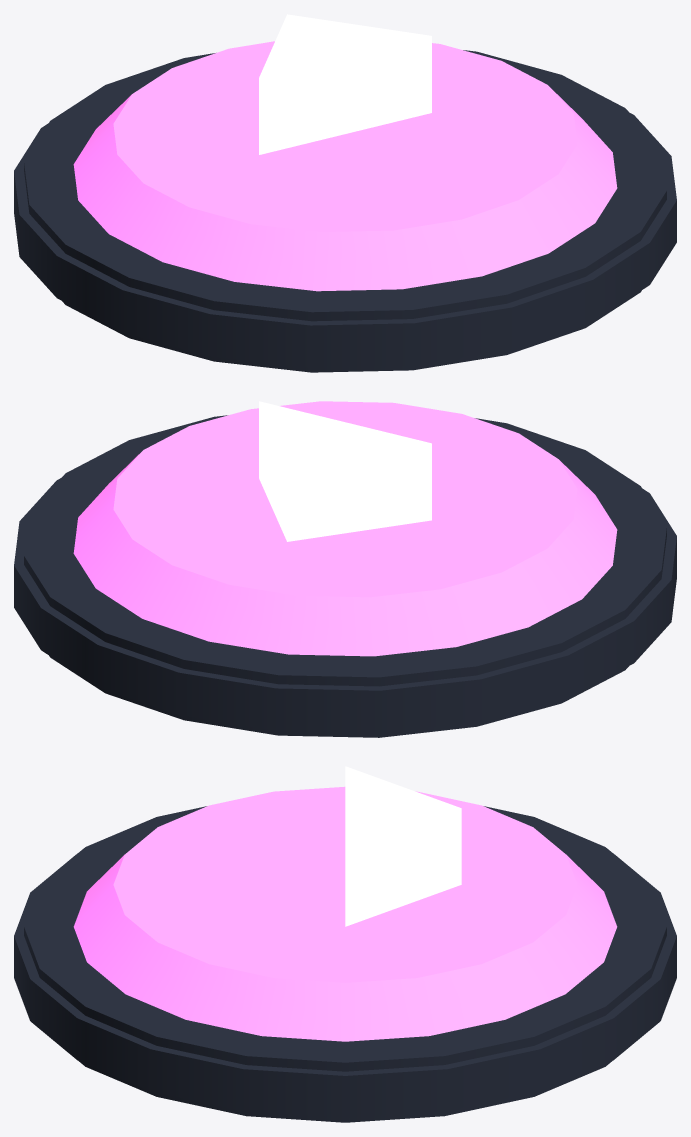
The model's file is bounce_pad.glb.
The picture shows the model from 3 angles, top to bottom: view 1: azimuth 30°, elevation 25°; view 2: azimuth 150°, elevation 25°; view 3: azimuth 270°, elevation 25°; orthographic projection.
Parts seen in each view (by area): view 1: bounce_pad; view 2: bounce_pad; view 3: bounce_pad.
Part boxes in pixels (x1=…): bounce_pad: x1=14, y1=14, x2=676, y2=372; bounce_pad: x1=14, y1=401, x2=676, y2=737; bounce_pad: x1=14, y1=766, x2=676, y2=1122.
Size of the model in its own units: 2 by 0.595 by 2.
